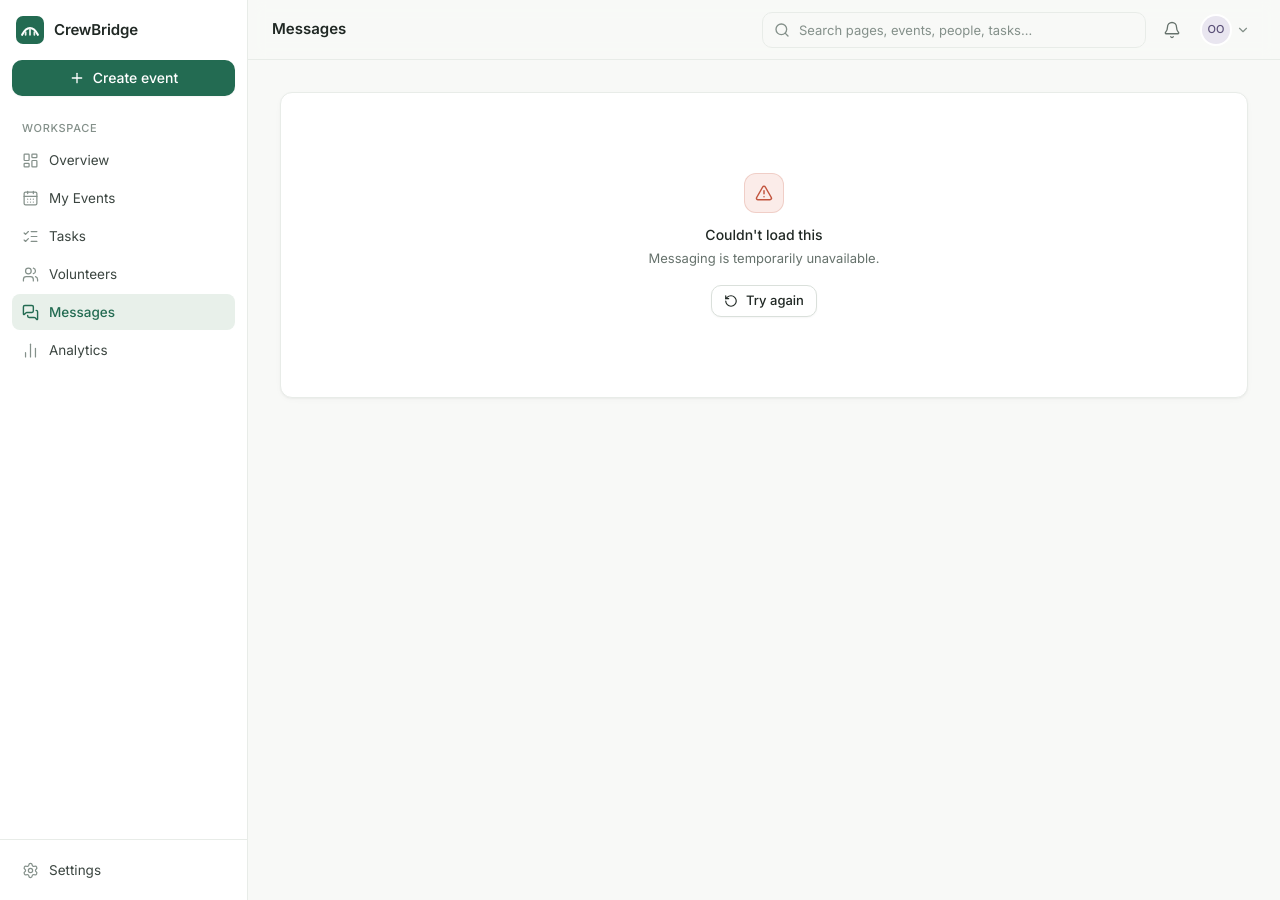
messages — live workspace › shows a retryable error when the chat session fails
Expected: the text "Messaging is temporarily unavailable." is shown, [648, 249, 879, 268]
Click the button "Try again": (764, 300) [711, 284, 817, 316]
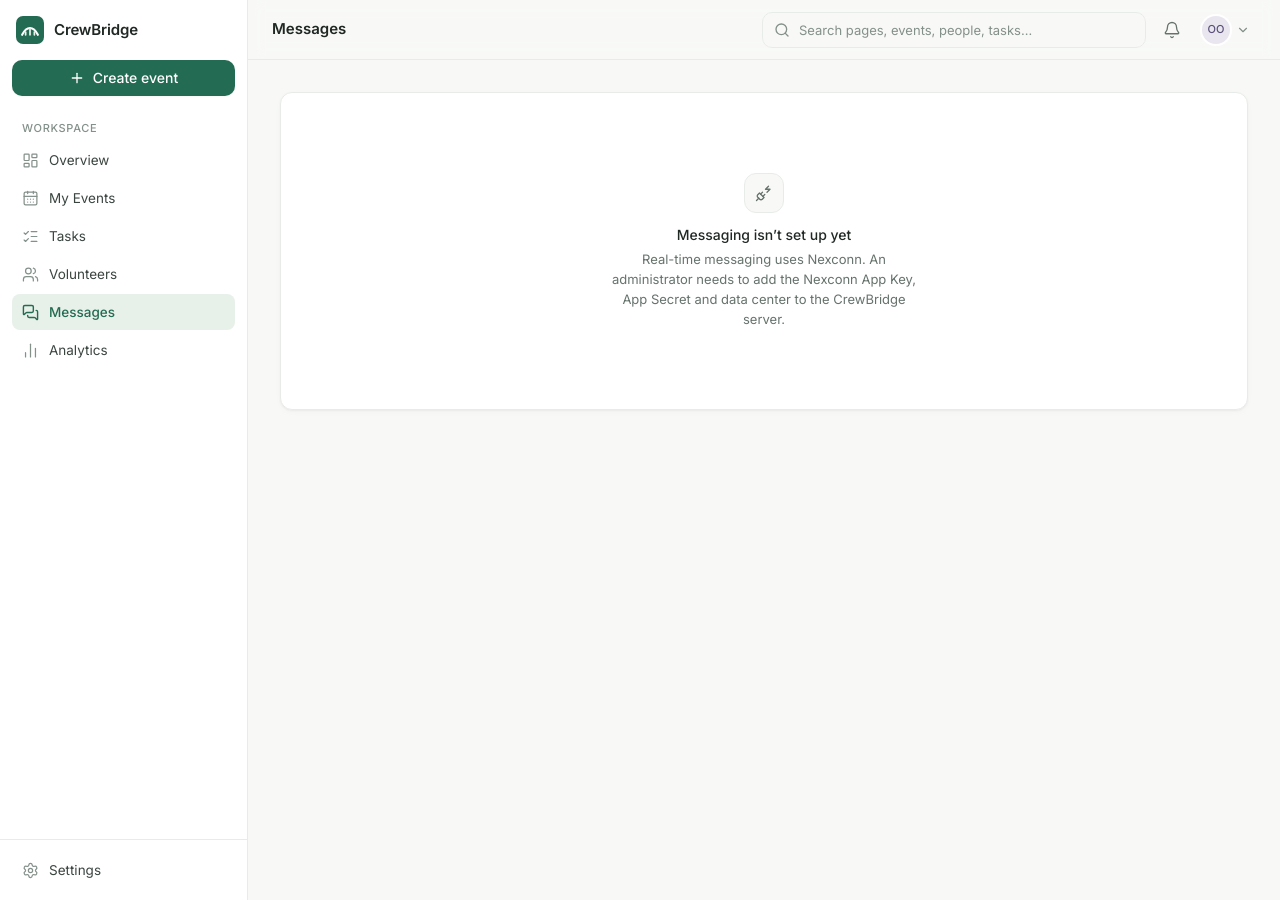
Expected: the text "Messaging isn’t set up yet" is shown, [677, 225, 851, 245]
